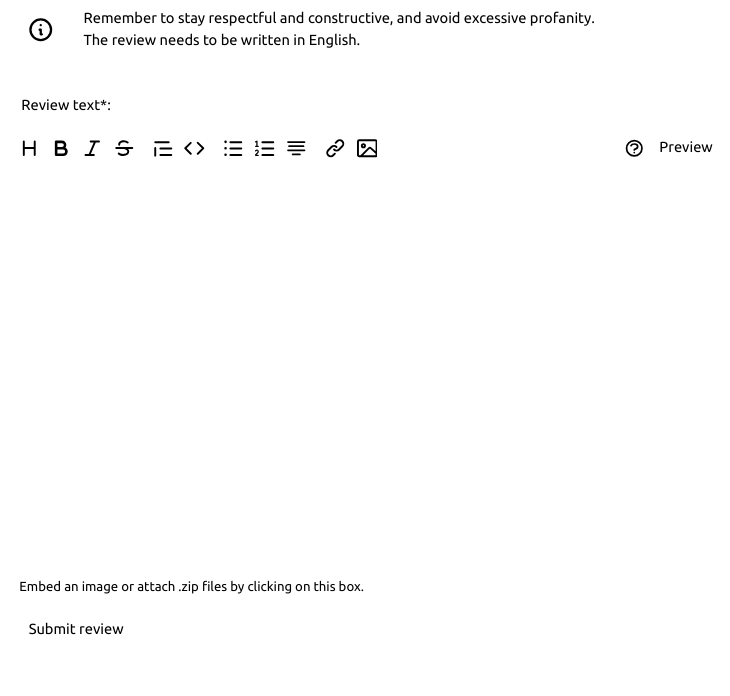
Test: ReviewForm › shows a per-field error and does not submit when empty
Click the button "Submit review" at (76, 629), box [12,613,140,646]
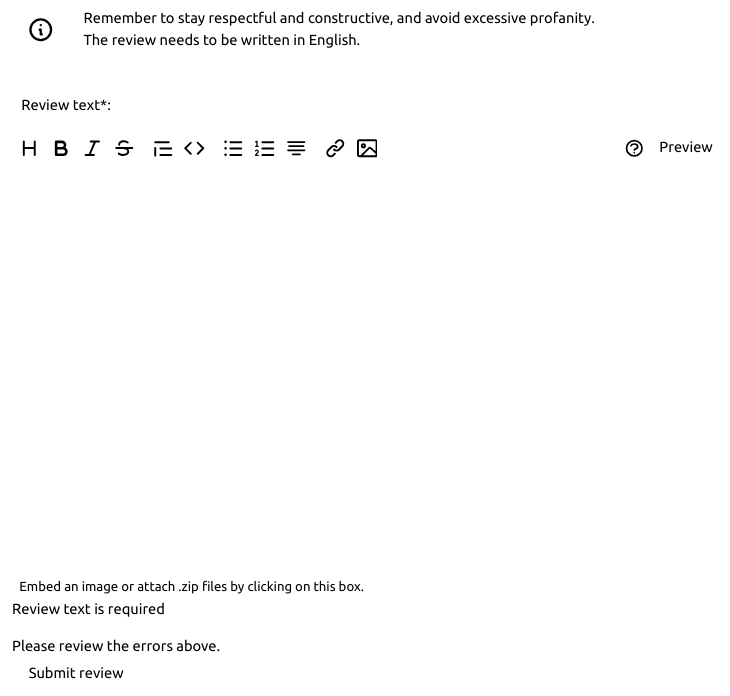
Now the text "Review text is required" is shown, box [12,600,165,617]
